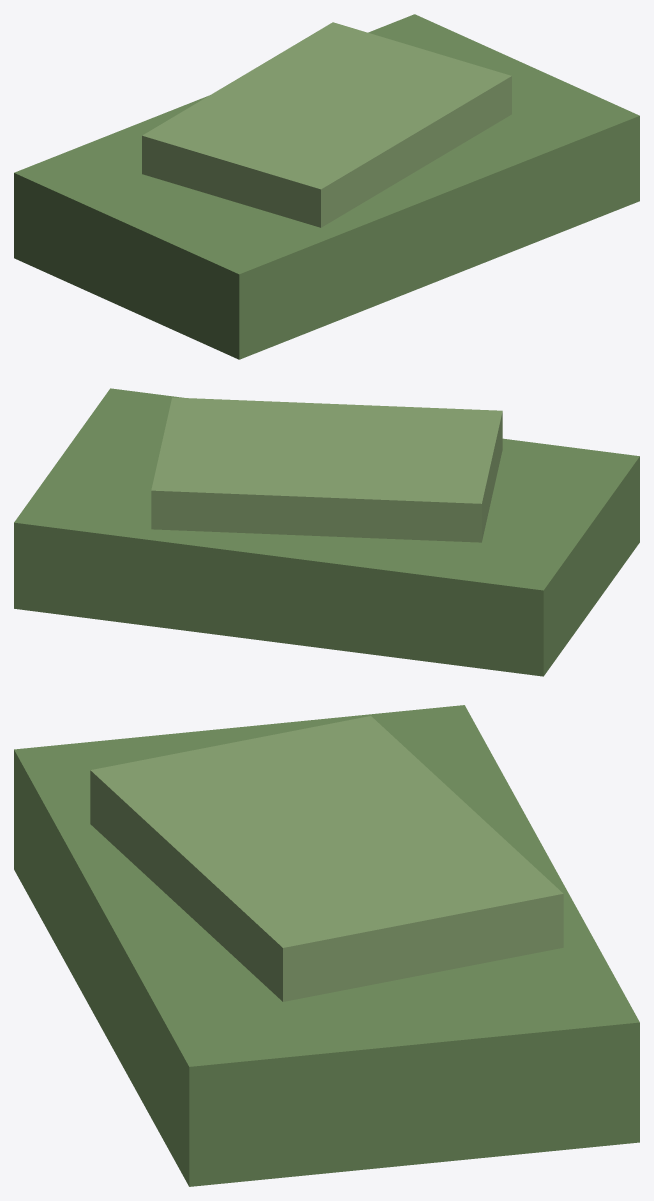
The model's file is structure.glb.
The picture shows the model from 3 angles, top to bottom: view 1: azimuth 30°, elevation 25°; view 2: azimuth 150°, elevation 25°; view 3: azimuth 270°, elevation 25°; orthographic projection. The views are drawn at different scales.
Visible parts, largest first — view 1: Box1, Box2; view 2: Box1, Box2; view 3: Box1, Box2.
Boxes of the visible parts, x1=… form: Box1: x1=14, y1=14, x2=639, y2=359; Box2: x1=142, y1=22, x2=511, y2=227; Box1: x1=14, y1=388, x2=639, y2=676; Box2: x1=151, y1=397, x2=502, y2=542; Box1: x1=14, y1=705, x2=639, y2=1186; Box2: x1=90, y1=716, x2=563, y2=1001.
Bounding box in the file's own units: 92.15 × 20.66 × 67.36.
